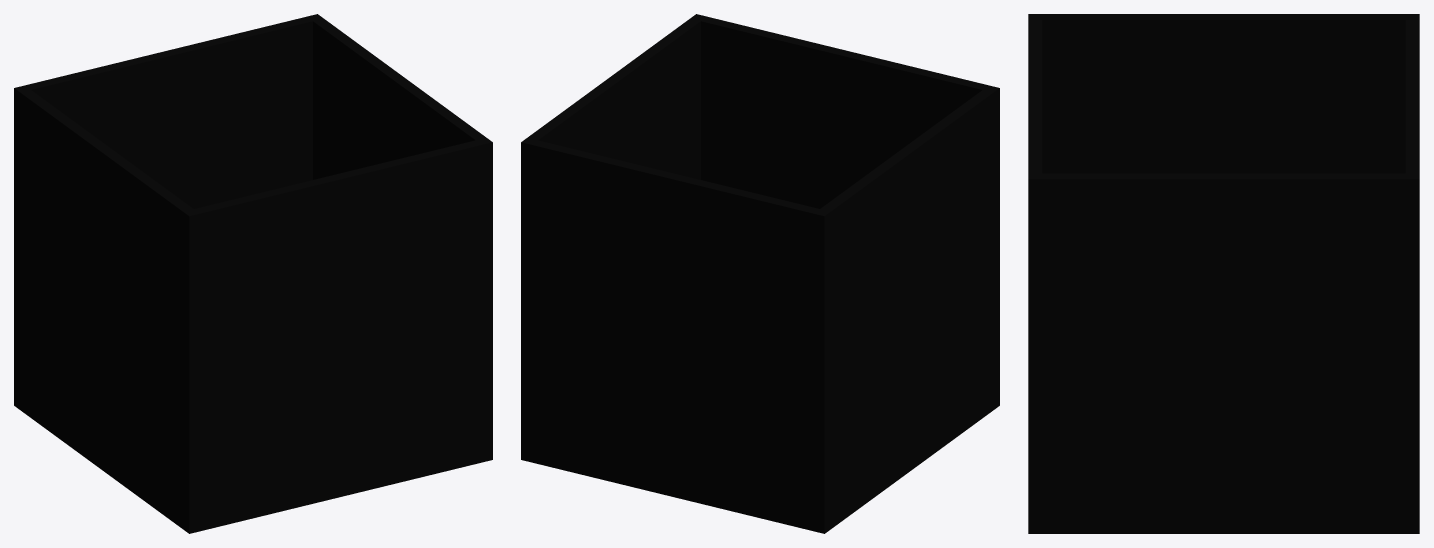
3 renders of one model, left to right at view 1: azimuth 30°, elevation 25°; view 2: azimuth 150°, elevation 25°; view 3: azimuth 270°, elevation 25°, orthographic. The views are drawn at different scales.
Parts seen in each view (by area): view 1: Box_557x557x557; view 2: Box_557x557x557; view 3: Box_557x557x557.
Boxes of the visible parts, left/top/right/bottom form: Box_557x557x557: left=14, top=14, right=492, bottom=533; Box_557x557x557: left=521, top=14, right=999, bottom=533; Box_557x557x557: left=1028, top=14, right=1419, bottom=533.
Bounding box in the file's own units: 0.557 × 0.557 × 0.557.
Materials: 1 (1 with a texture image).
